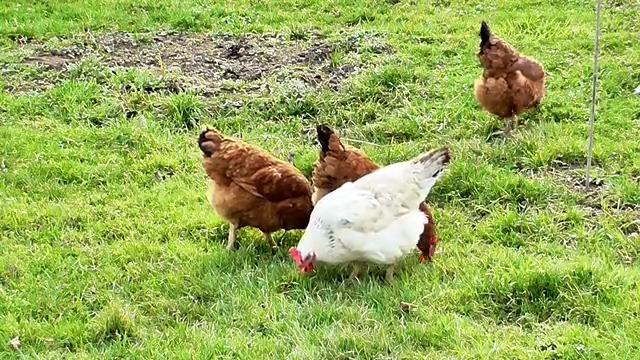Normal: (295, 144, 450, 272), (198, 128, 313, 241), (476, 26, 544, 128)
